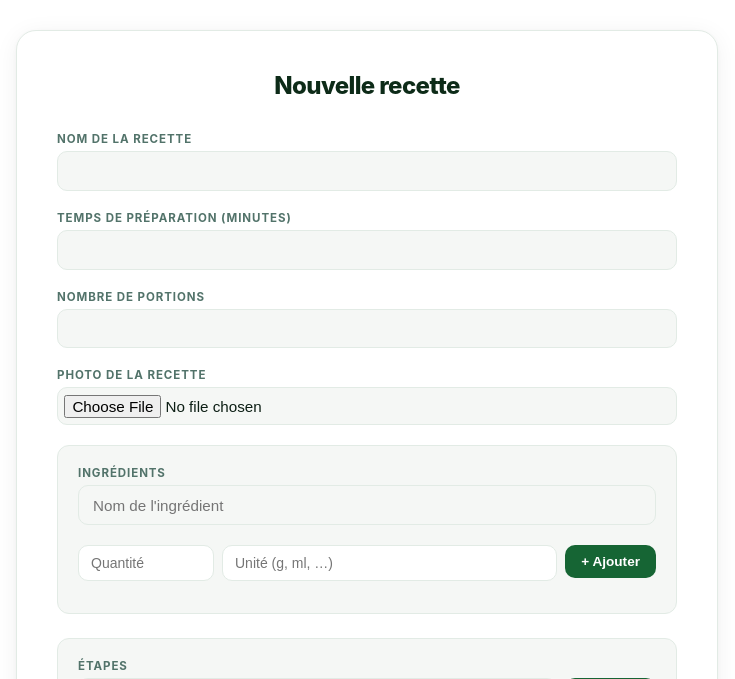
it: RecetteForm — mode création › validation — aucun ingrédient affiche le message d'erreur
Type "Tarte" into the field labelled "Nom de la recette" at [367, 171], box [57,151,677,191]
(page scrolled)
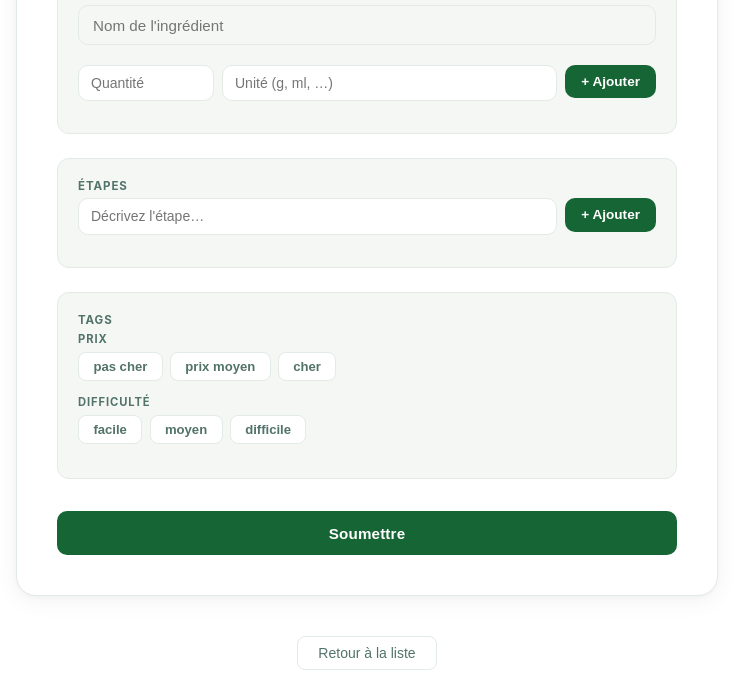
Click the button "Soumettre" at [367, 533], box [57,511,677,555]
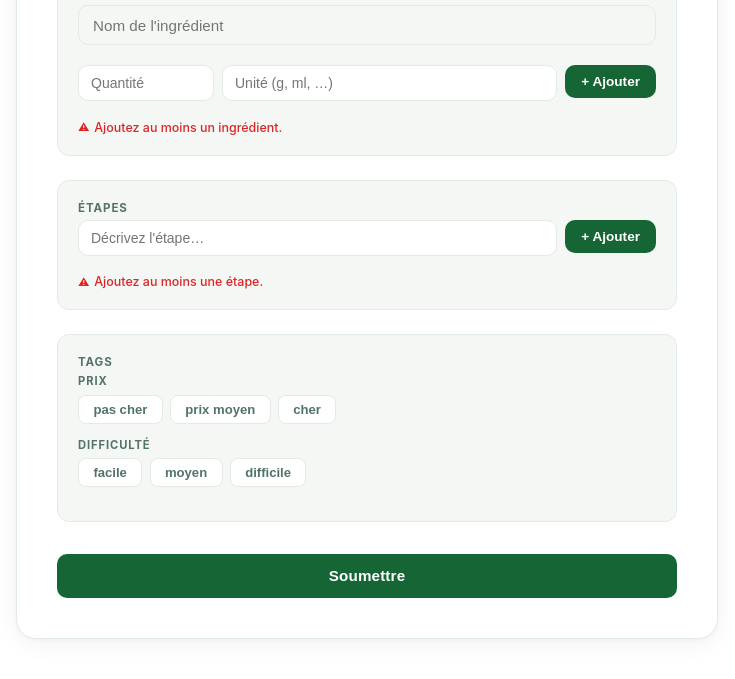
Result: the text "Ajoutez au moins un ingrédient." is shown at [94,120,282,135]
